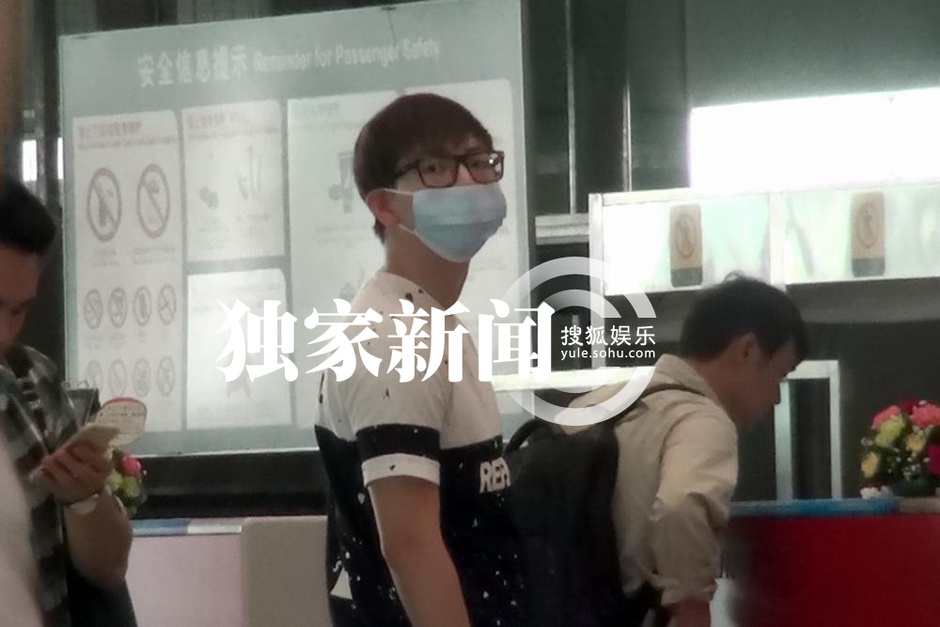face: (752, 336, 804, 433)
face_mask: (407, 125, 505, 259)
